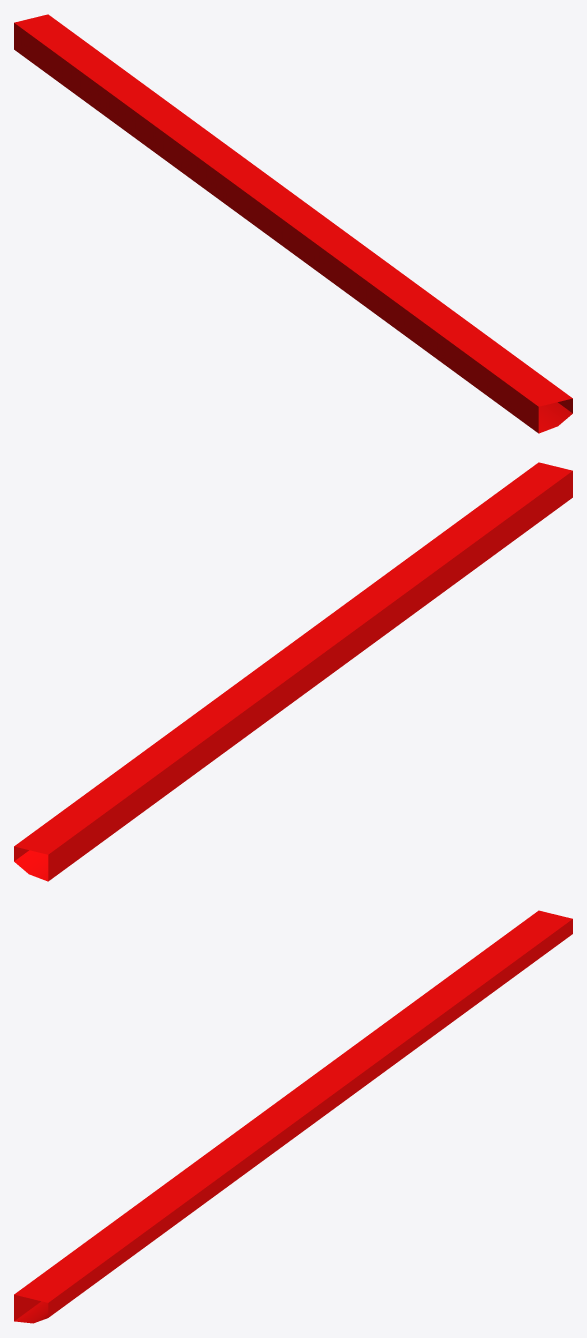
File: K800_TAIL_L.glb
3 views of the same model, one above another, from view 1: azimuth 30°, elevation 25°; view 2: azimuth 150°, elevation 25°; view 3: azimuth 330°, elevation 25° (orthographic).
Parts seen in each view (by area): view 1: obj1; view 2: obj1; view 3: obj1.
Part boxes in pixels (x1,y1,x2,y2): obj1: [14, 14, 572, 433]; obj1: [14, 462, 572, 881]; obj1: [14, 910, 572, 1323].
Size of the model in its own units: 0.6026 by 0.4516 by 16.
Materials: 1 (1 with a texture image).
